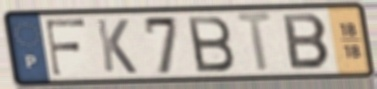7: (141, 15, 182, 76)
B: (185, 14, 238, 75), (281, 12, 334, 72)
F: (44, 17, 88, 78)
K: (93, 17, 139, 76)
T: (233, 10, 279, 76)
